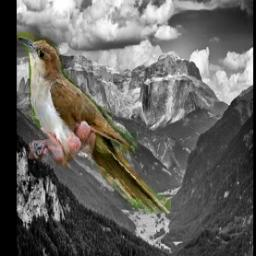Cuckoo: (18, 32, 172, 213)
